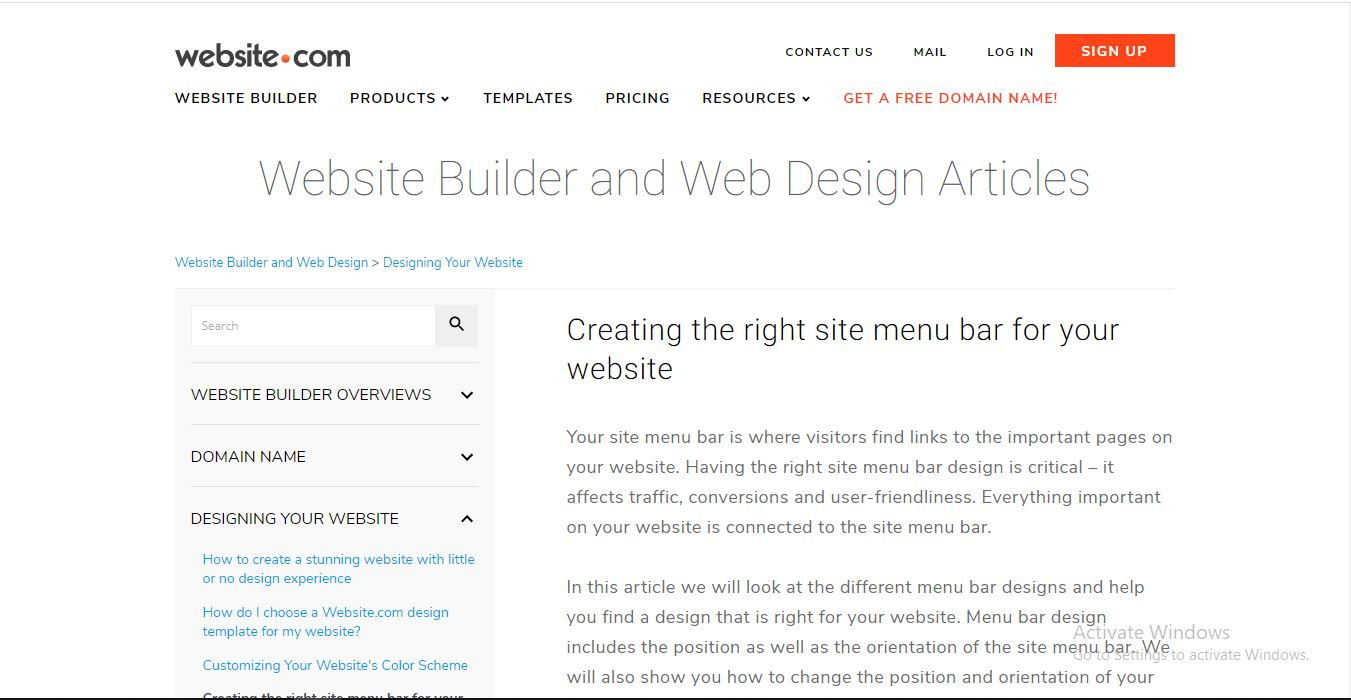Button: (1048, 27, 1183, 72), (438, 306, 481, 347)
Image: (159, 19, 367, 77)
Menu Bar: (173, 77, 1067, 116)
Nav Bar: (763, 29, 1046, 75)
Side Bar: (171, 279, 488, 700)
Text Field: (195, 309, 441, 345)
